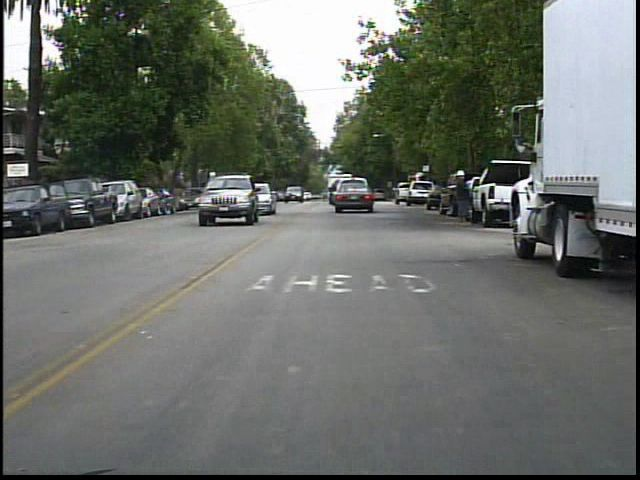person: (449, 166, 478, 228)
